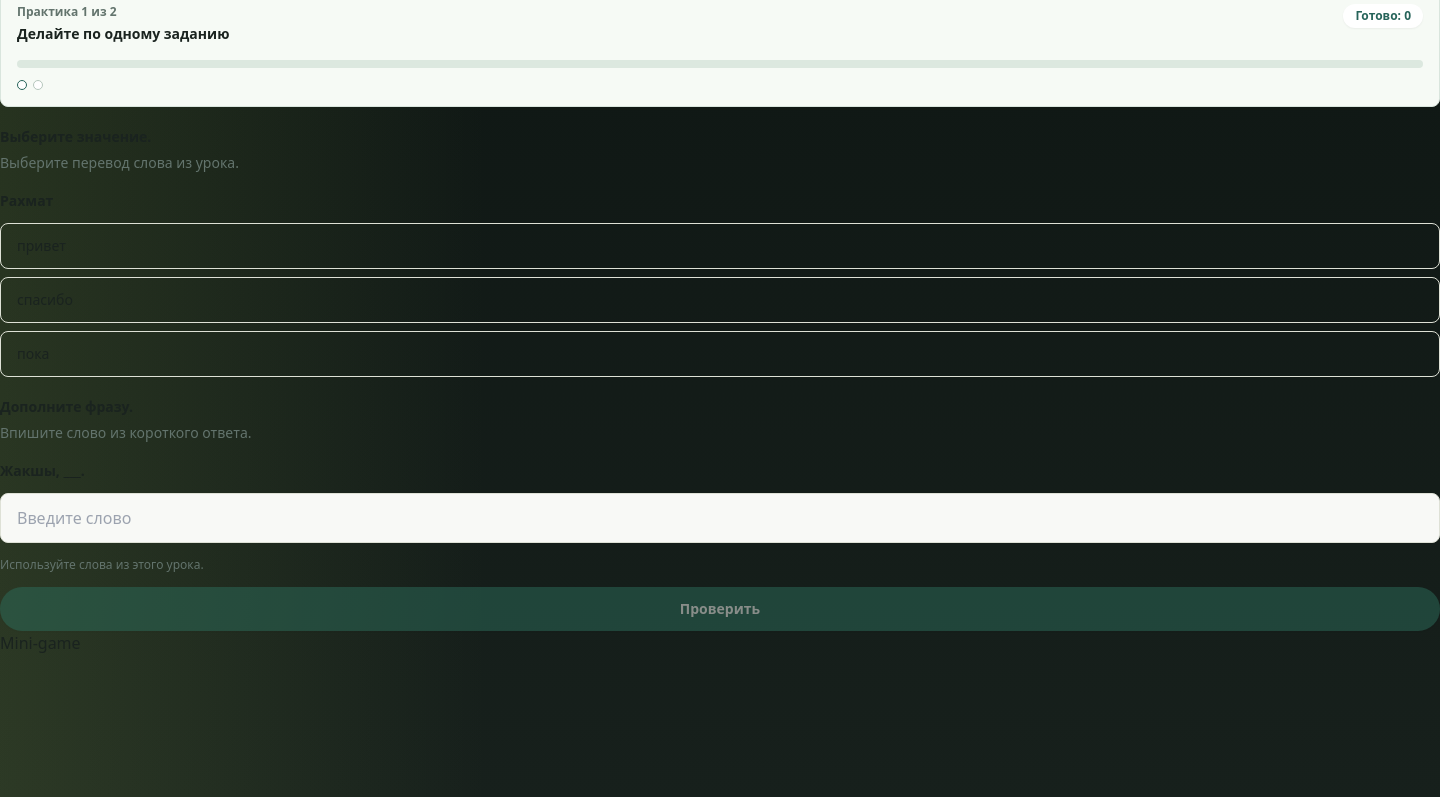
Test case: PracticeSection › marks a missed fill blank item corrected after a correct retry
Click the button "спасибо" at (45, 300), box [0,277,1439,323]
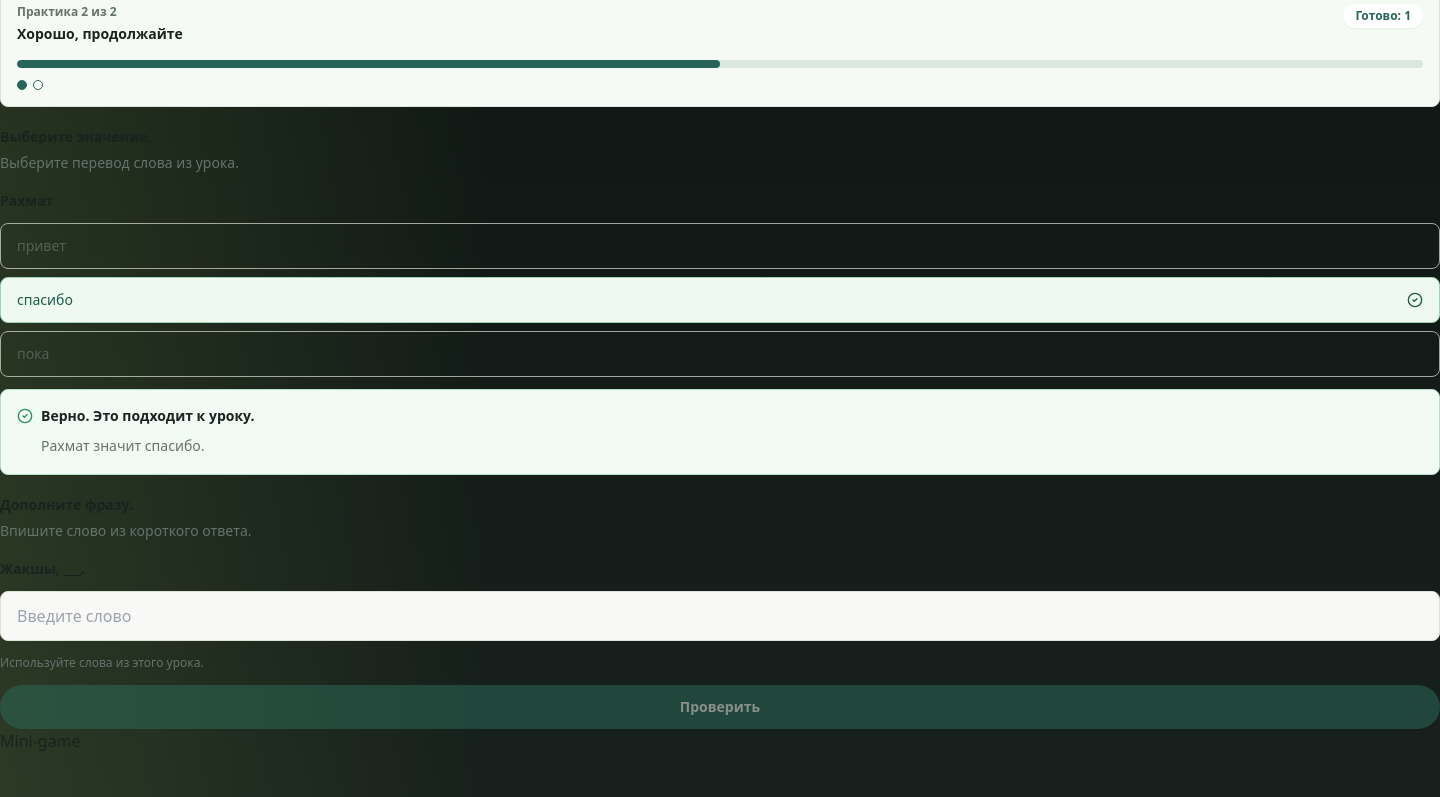
Type "салам" into the field labelled "Жакшы, ___." at (720, 616), box [0,591,1439,641]
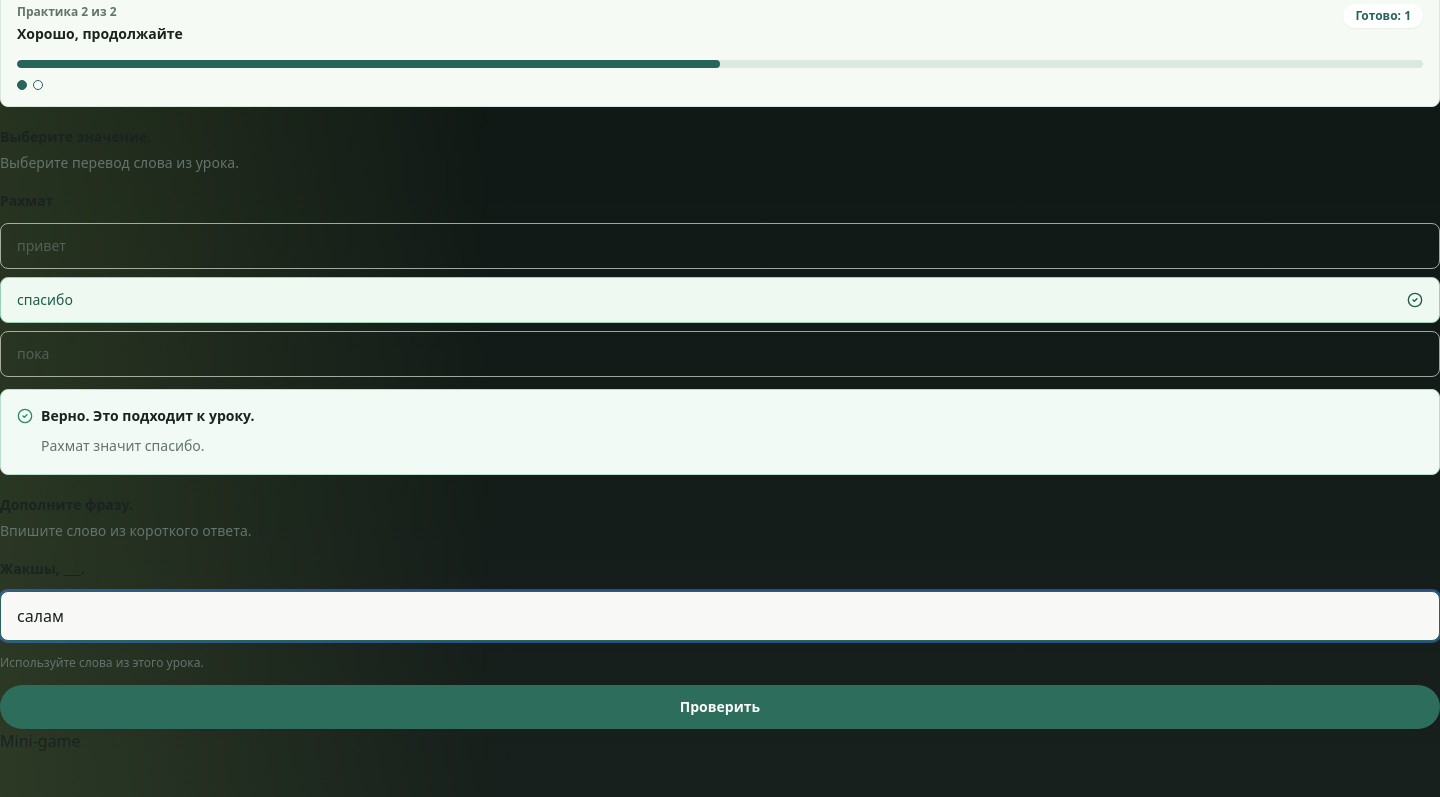
Click the button "Проверить" at (720, 707), box [0,685,1439,729]
(page scrolled)
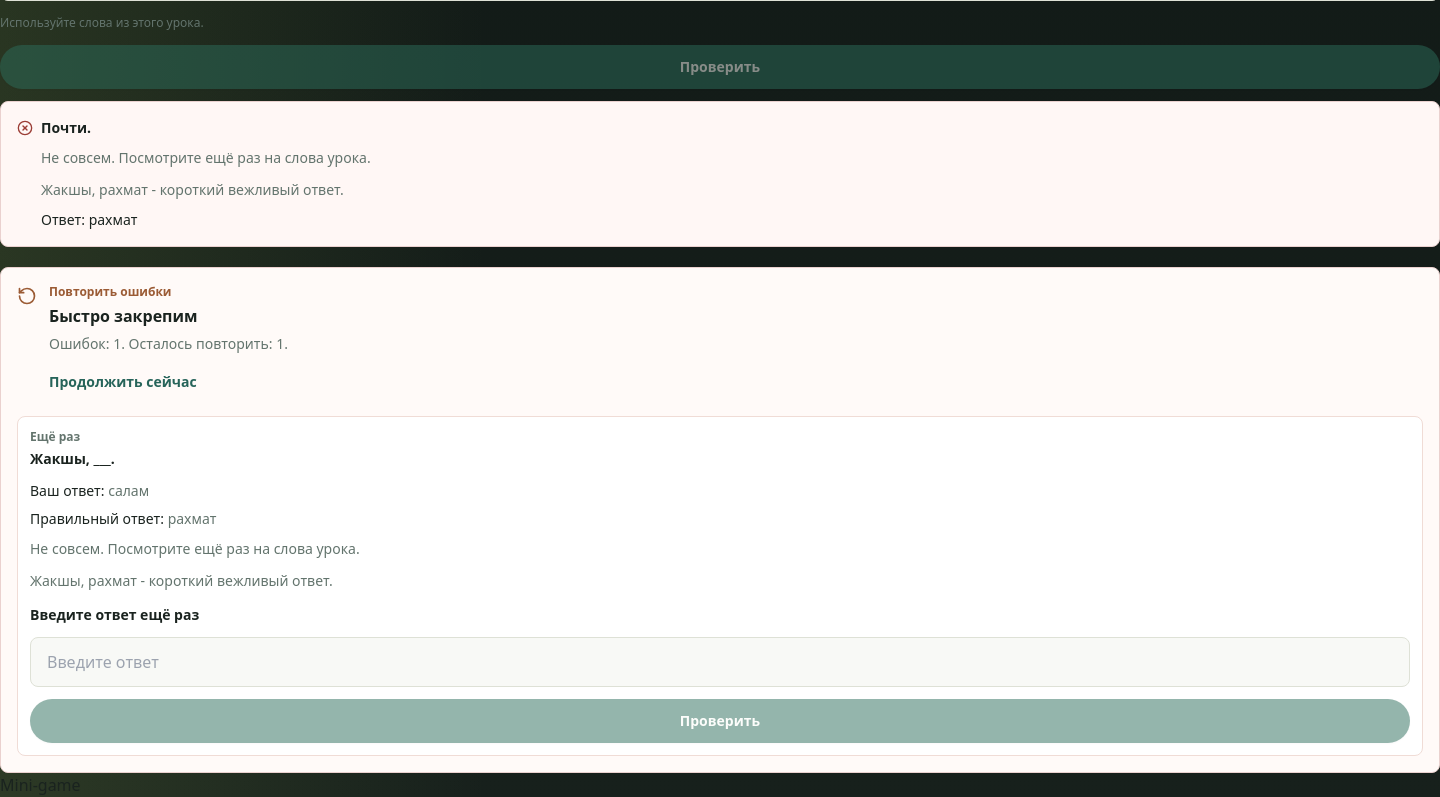
Type "рахмат" into the field labelled "Введите ответ ещё раз" at (720, 662), box [30,637,1410,687]
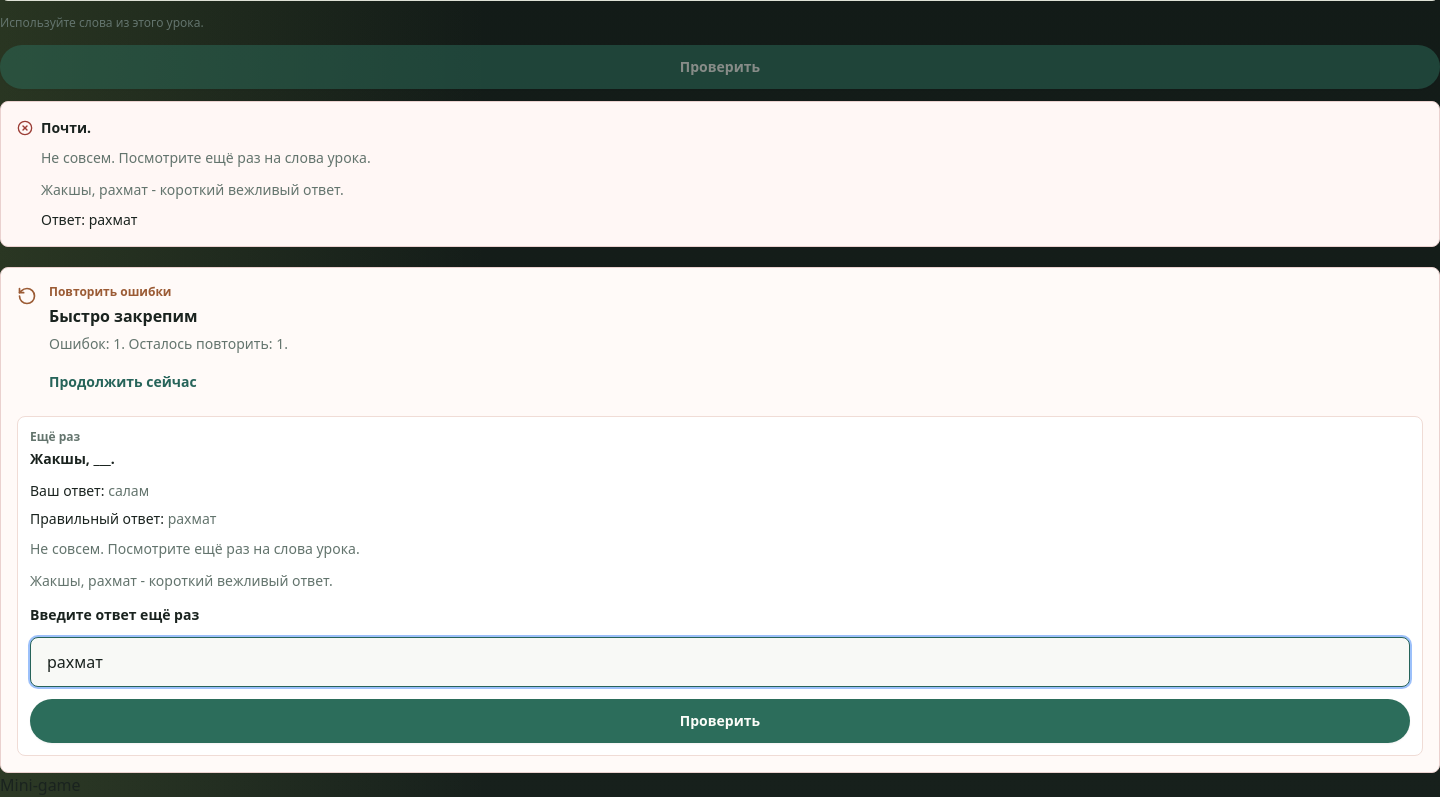
Click the button "Проверить" below "Введите ответ ещё раз" at (720, 721), box [30,699,1410,743]
(page scrolled)
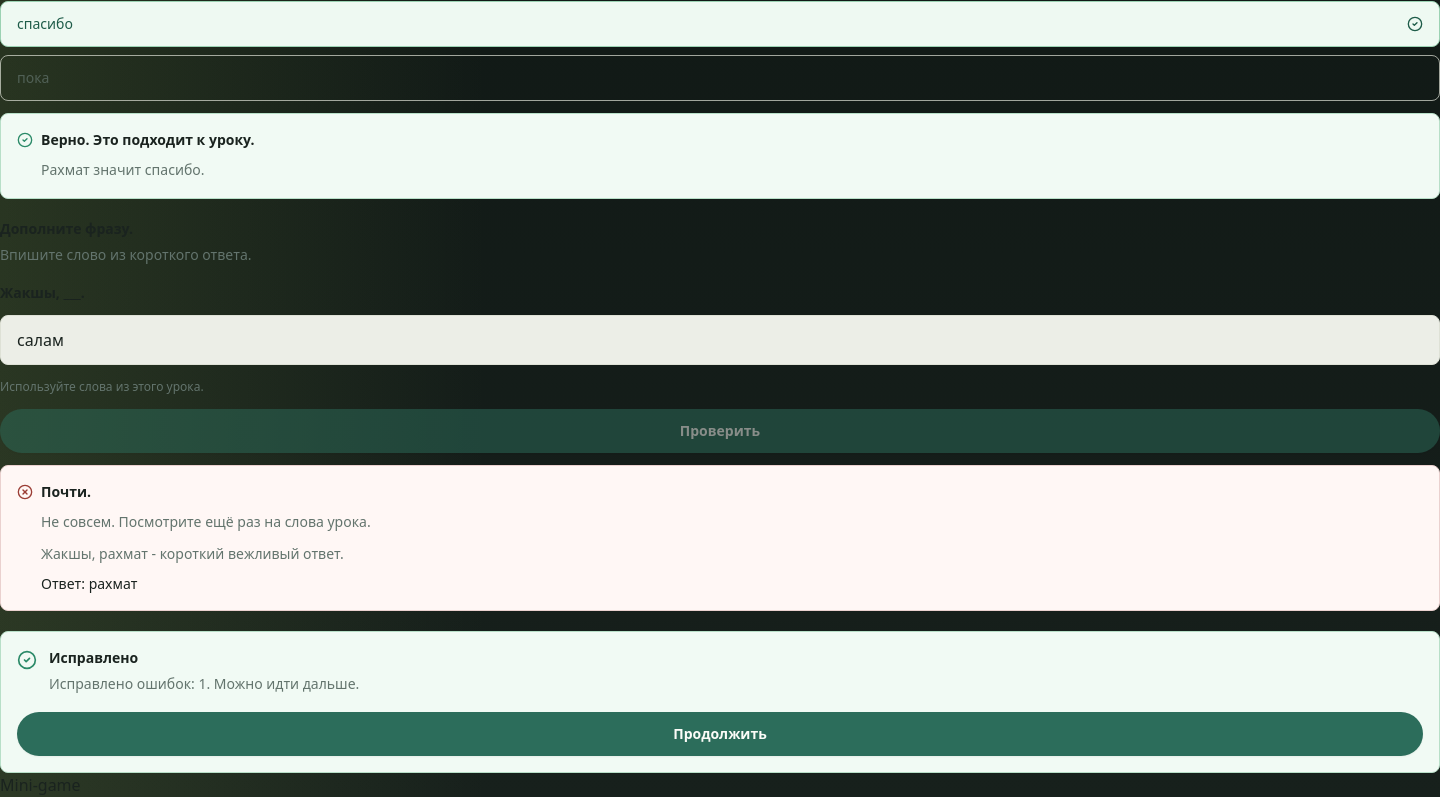
Expected: the element with test id "missed-corrected" shows "Исправлено", [49,648,138,667]
